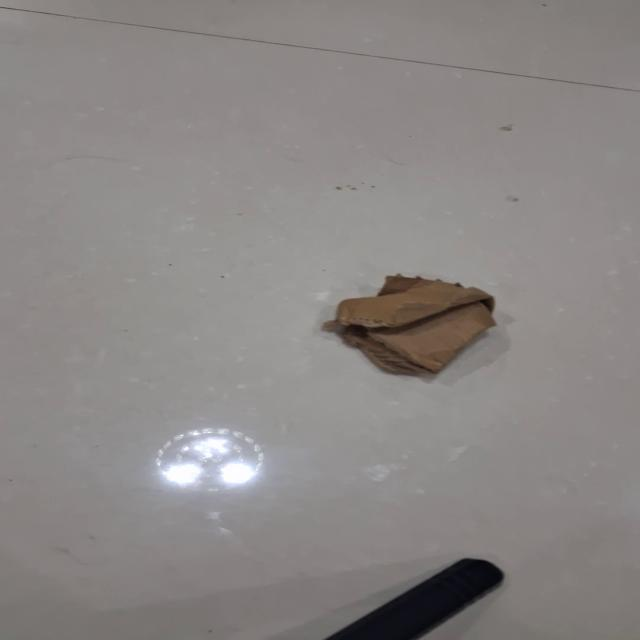paper: (322, 273, 497, 376)
